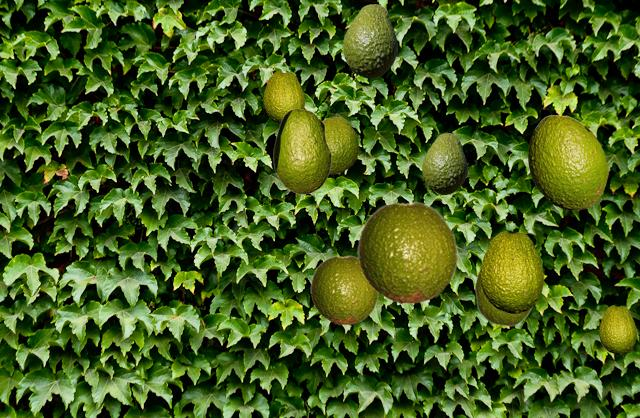avocado: (357, 201, 458, 303), (528, 115, 607, 209), (480, 231, 542, 312), (273, 108, 330, 193), (310, 255, 378, 324), (343, 4, 396, 77), (474, 269, 533, 326), (422, 133, 466, 193), (263, 71, 303, 123), (322, 117, 357, 173), (599, 305, 635, 353)
